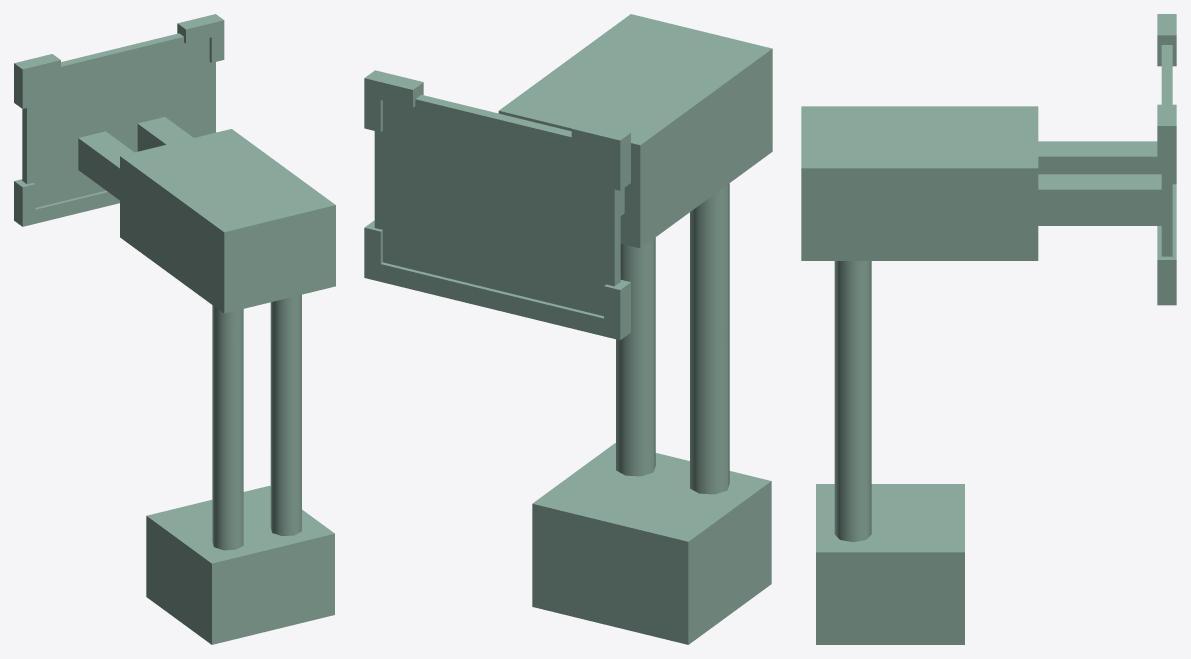
Rendered from Basket_3.FBX.
3 views of the same model, side by side, from view 1: azimuth 30°, elevation 25°; view 2: azimuth 150°, elevation 25°; view 3: azimuth 270°, elevation 25° (orthographic). The views are drawn at different scales.
Parts seen in each view (by area): view 1: Basket_3; view 2: Basket_3; view 3: Basket_3.
Boxes of the visible parts, box(x1,y1,x2,y2) form: Basket_3: box(14, 14, 335, 644); Basket_3: box(364, 14, 772, 644); Basket_3: box(801, 14, 1176, 644).
Size of the model in its own units: 262 by 372 by 591.
